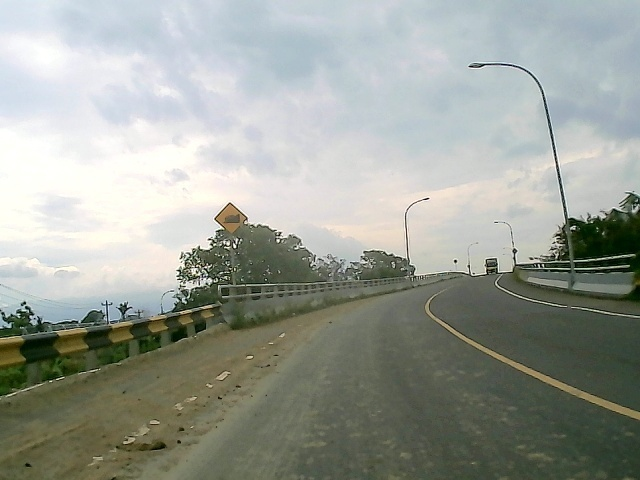Jalanan menanjak: (211, 200, 252, 237)
